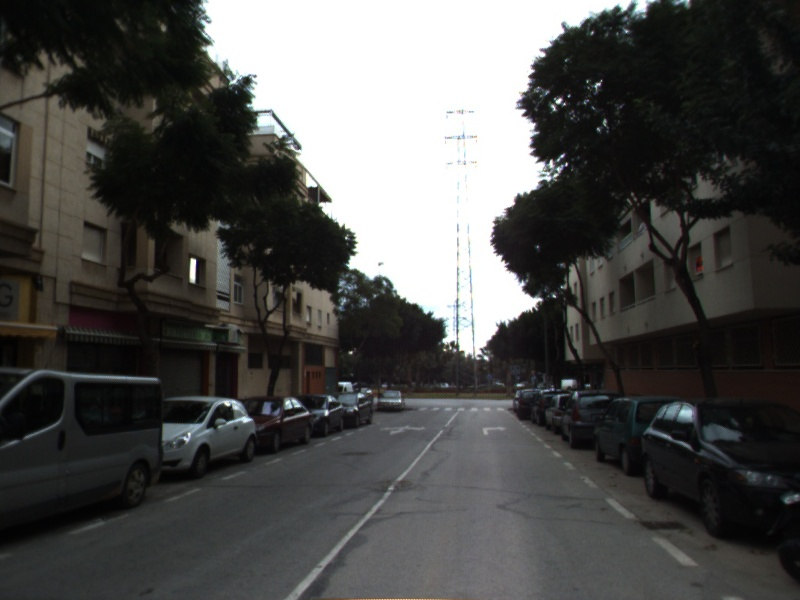RIGHT: (480, 423, 511, 437)
